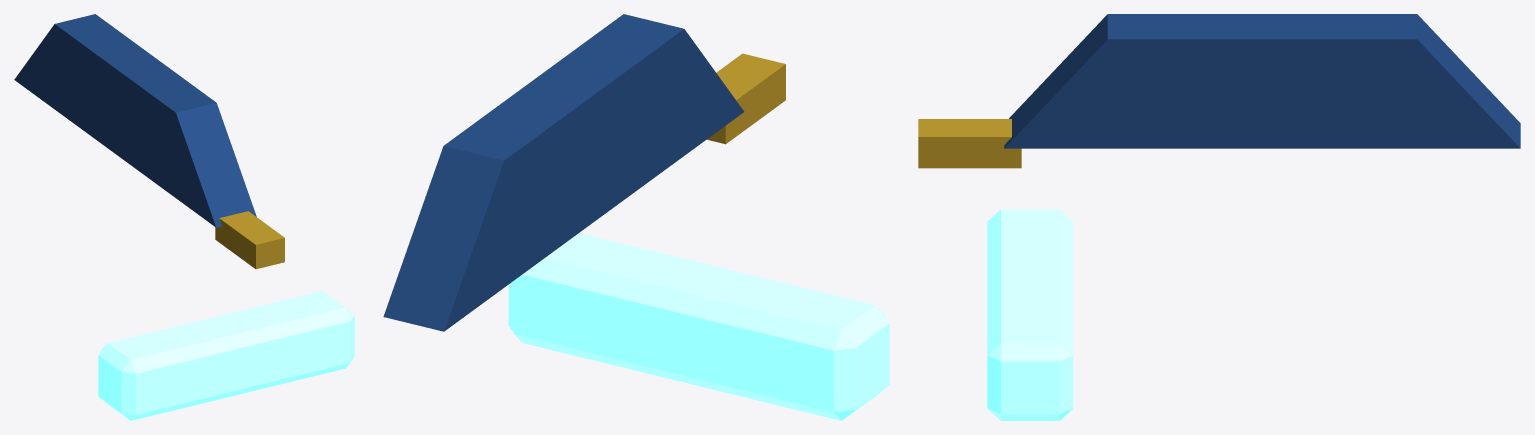
File: dc_trooper_visor.glb
3 views of the same model, side by side, from view 1: azimuth 30°, elevation 25°; view 2: azimuth 150°, elevation 25°; view 3: azimuth 270°, elevation 25° (orthographic). The views are drawn at different scales.
Visible parts, largest first — view 1: part.dc_trooper_visor; view 2: part.dc_trooper_visor; view 3: part.dc_trooper_visor.
Part boxes in pixels (bbox=[...]): part.dc_trooper_visor: bbox=[14, 14, 354, 420]; part.dc_trooper_visor: bbox=[383, 14, 889, 420]; part.dc_trooper_visor: bbox=[918, 14, 1520, 420].
Size of the model in its own units: 0.2 by 0.21 by 0.35.
